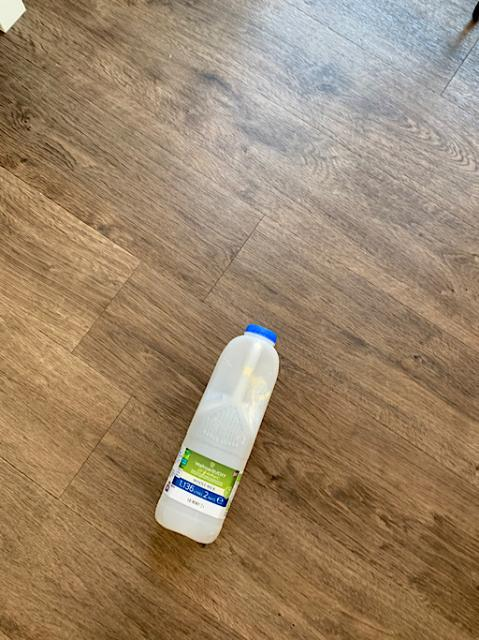plastic: (155, 324, 277, 542)
